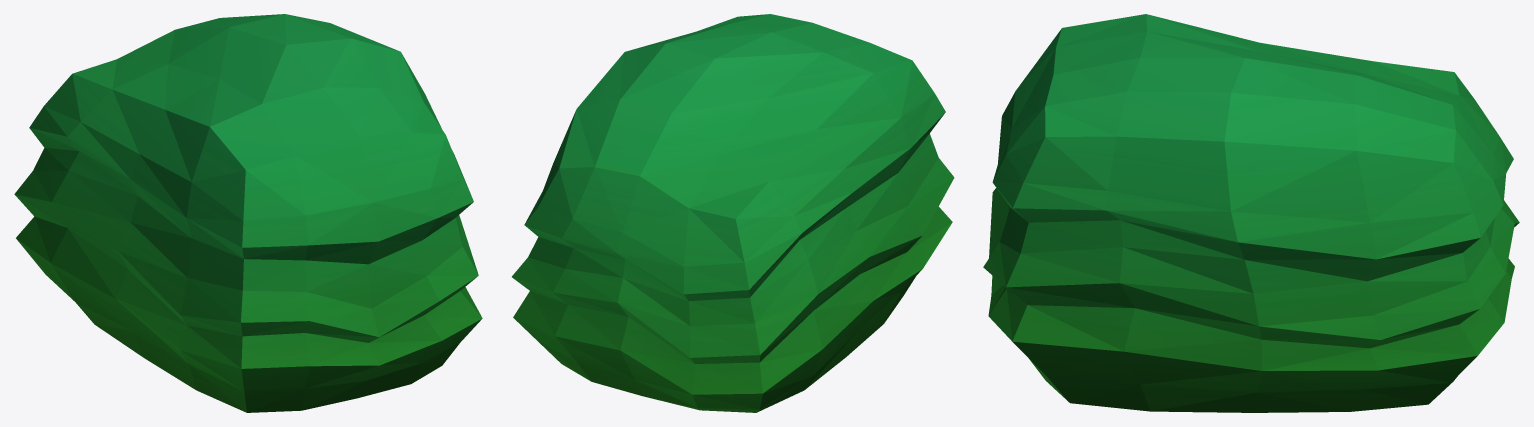
File: bush_round.glb
The picture shows the model from 3 angles, left to right: view 1: azimuth 30°, elevation 25°; view 2: azimuth 150°, elevation 25°; view 3: azimuth 270°, elevation 25°; orthographic projection. The views are drawn at different scales.
Parts seen in each view (by area): view 1: Bush_1_1_C; view 2: Bush_1_1_C; view 3: Bush_1_1_C.
Part boxes in pixels (box(x1,y1,x2,y2)): Bush_1_1_C: box(14, 14, 482, 412); Bush_1_1_C: box(512, 14, 954, 412); Bush_1_1_C: box(983, 14, 1519, 412).
Size of the model in its own units: 1.19 by 1 by 1.6.
Materials: 1 (1 with a texture image).
